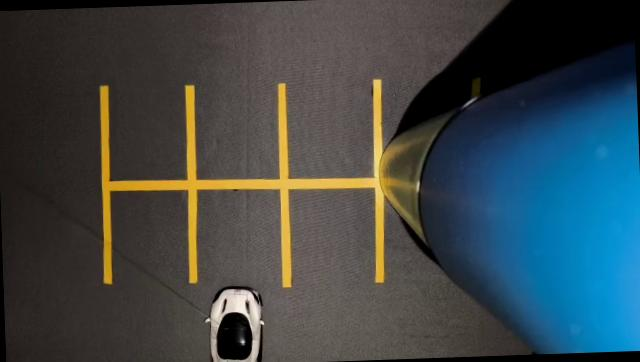toy_car: (195, 263, 302, 362)
